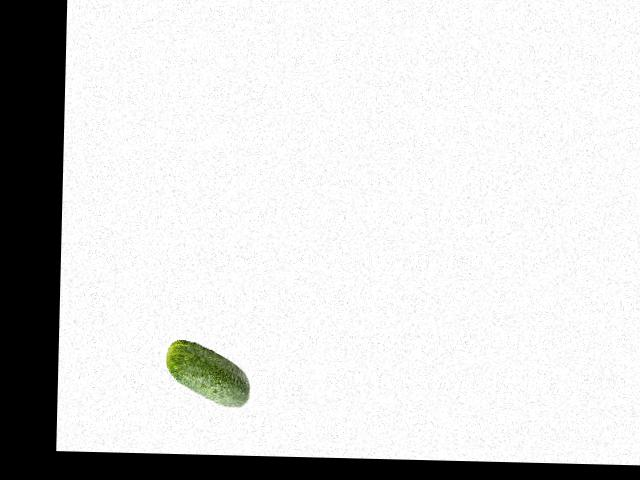cucumber: (165, 340, 251, 407)
